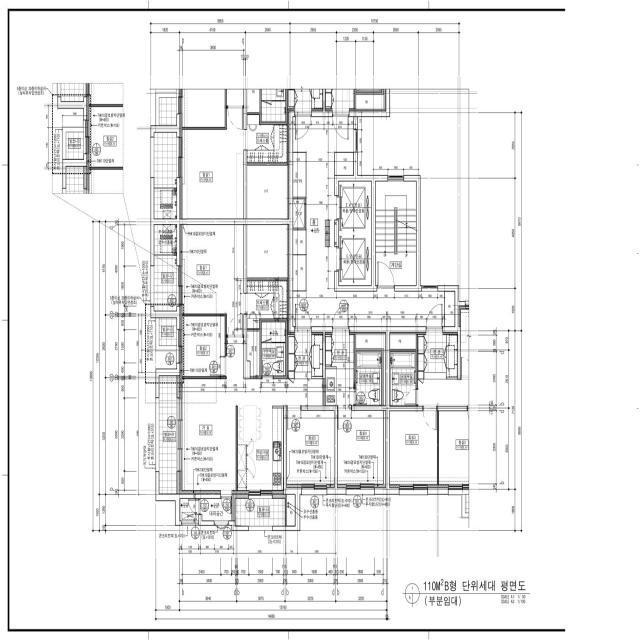space_balconi: (159, 376, 177, 494), (154, 225, 177, 311), (235, 499, 285, 526), (159, 318, 177, 346)
space_bedroom: (180, 225, 244, 335), (337, 411, 386, 487), (287, 411, 334, 487), (180, 316, 225, 376)
space_dressroom: (247, 281, 287, 329)
space_elevator: (339, 181, 371, 234), (339, 233, 371, 285)
space_elevator_hall: (293, 117, 444, 326)
space_front: (287, 329, 323, 379), (325, 333, 354, 367)
space_kitchen: (238, 408, 284, 494), (325, 367, 354, 405)
space_living_room: (180, 337, 323, 494)
space_other: (247, 225, 289, 278), (356, 333, 386, 406), (202, 499, 232, 521), (247, 331, 260, 376), (293, 153, 306, 197), (293, 255, 306, 291), (335, 153, 353, 175), (445, 291, 455, 326), (293, 199, 304, 228), (293, 230, 306, 254), (287, 495, 295, 526)
space_outdoor_room: (180, 499, 199, 521)
space_staircase: (376, 181, 416, 285)
space_toilet: (356, 352, 381, 405), (262, 322, 285, 375)
